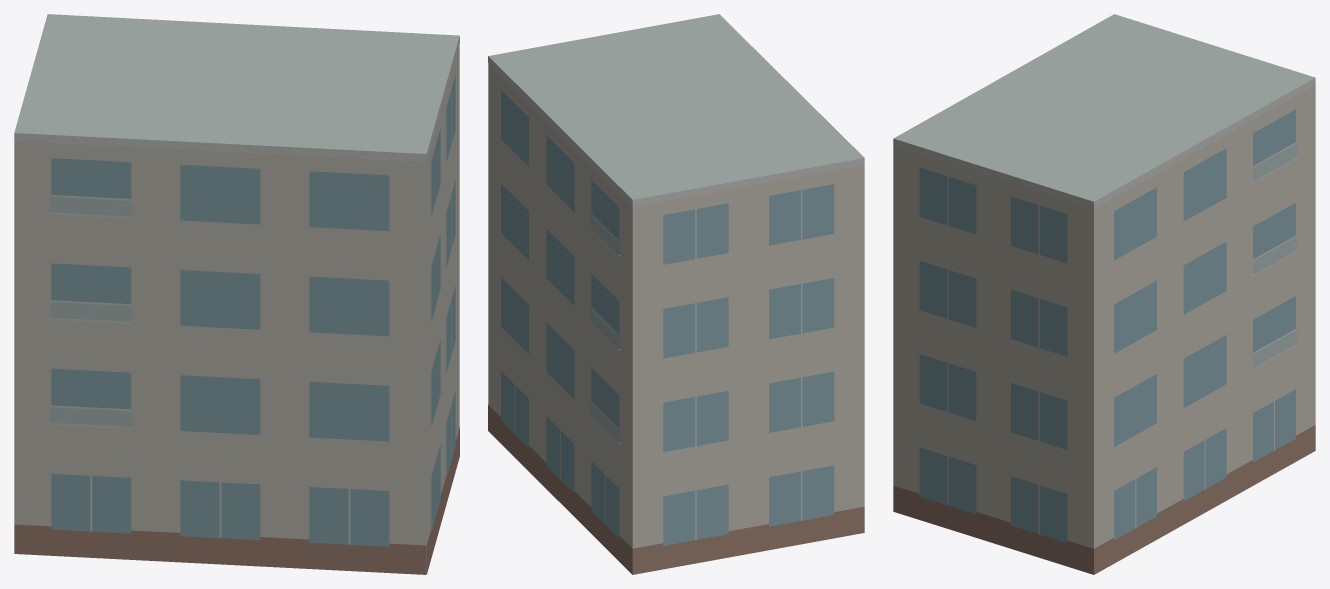
The model's file is survey-upis-32619570.glb.
3 views of the same model, side by side, from view 1: azimuth 30°, elevation 25°; view 2: azimuth 150°, elevation 25°; view 3: azimuth 270°, elevation 25° (orthographic). The views are drawn at different scales.
Parts seen in each view (by area): view 1: survey-upis-32619570.tmp; view 2: survey-upis-32619570.tmp; view 3: survey-upis-32619570.tmp.
Boxes of the visible parts, <box> form: survey-upis-32619570.tmp: <box>14,14,459,574</box>; survey-upis-32619570.tmp: <box>488,14,864,574</box>; survey-upis-32619570.tmp: <box>893,14,1315,574</box>.
Bounding box in the file's own units: 13.82 × 12.8 × 13.14.
